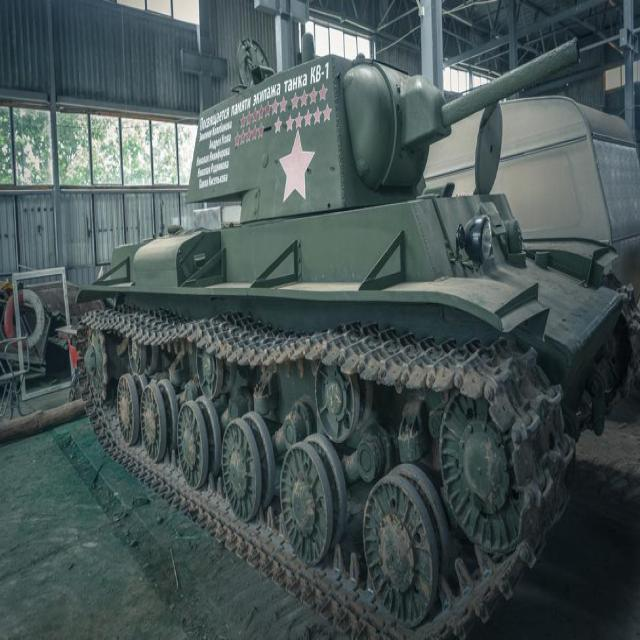Tanks: (61, 74, 617, 604)
